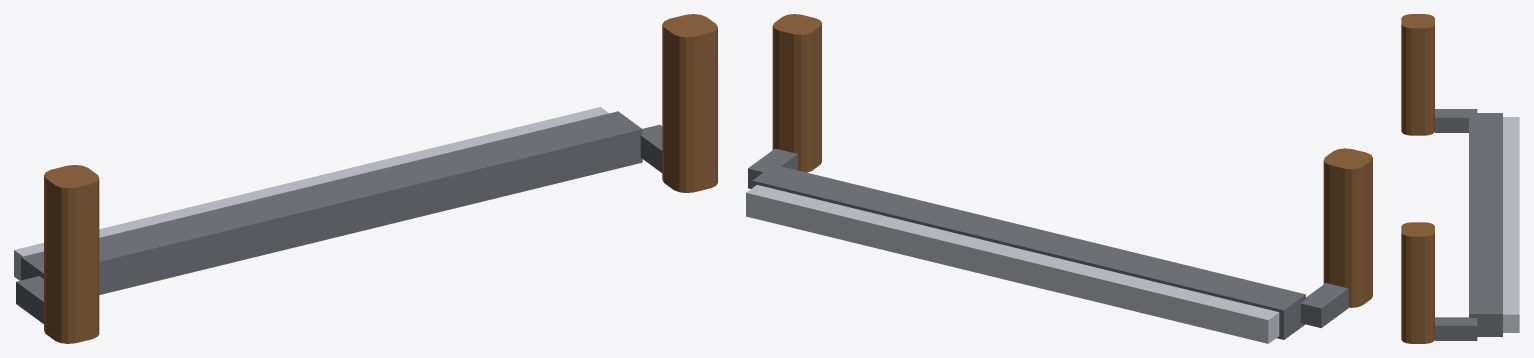
Rendered from prop_knife.obj.
The picture shows the model from 3 angles, left to right: view 1: azimuth 30°, elevation 25°; view 2: azimuth 150°, elevation 25°; view 3: azimuth 270°, elevation 25°; orthographic projection. The views are drawn at different scales.
Visible parts, largest first — view 1: Knife.Blade, Knife.Handle, Knife.Edge, Knife.Tang; view 2: Knife.Edge, Knife.Handle, Knife.Blade, Knife.Tang; view 3: Knife.Handle, Knife.Blade, Knife.Edge, Knife.Tang.
Boxes of the visible parts, left/top/right/bottom form: Knife.Blade: left=21, top=111, right=642, bottom=294; Knife.Handle: left=44, top=14, right=717, bottom=343; Knife.Edge: left=14, top=107, right=608, bottom=280; Knife.Tang: left=16, top=124, right=662, bottom=323; Knife.Edge: left=746, top=185, right=1279, bottom=343; Knife.Handle: left=772, top=14, right=1372, bottom=307; Knife.Blade: left=752, top=164, right=1305, bottom=339; Knife.Tang: left=748, top=148, right=1348, bottom=327; Knife.Handle: left=1401, top=14, right=1434, bottom=343; Knife.Blade: left=1469, top=113, right=1502, bottom=336; Knife.Edge: left=1503, top=117, right=1519, bottom=332; Knife.Tang: left=1435, top=109, right=1477, bottom=340.
Bounding box in the file's own units: 0.622 × 0.145 × 0.14.
